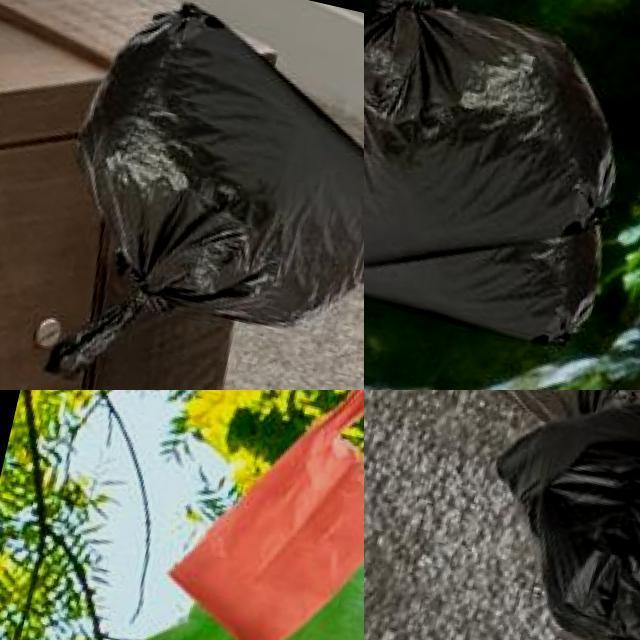waste: (28, 0, 364, 390), (364, 0, 640, 353), (159, 390, 364, 640), (86, 469, 364, 640), (459, 390, 640, 640)
